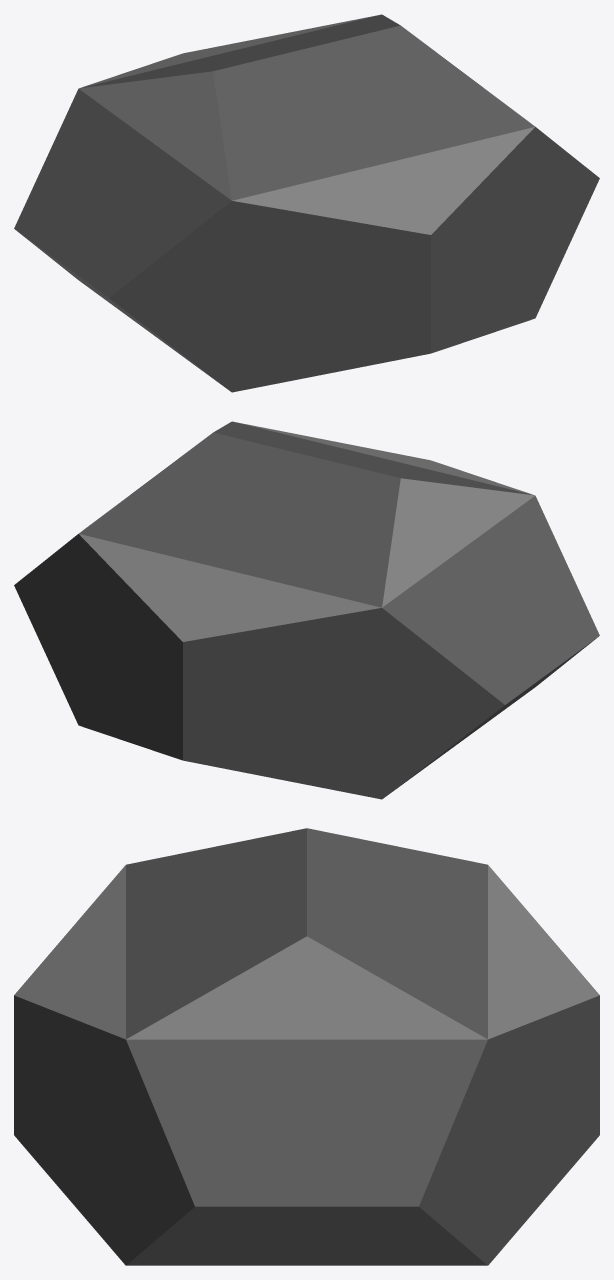
Rendered from rock_11.fbx.
The picture shows the model from 3 angles, top to bottom: view 1: azimuth 30°, elevation 25°; view 2: azimuth 150°, elevation 25°; view 3: azimuth 270°, elevation 25°; orthographic projection. The views are drawn at different scales.
Parts seen in each view (by area): view 1: rock_11; view 2: rock_11; view 3: rock_11.
Boxes of the visible parts, x1=… form: rock_11: x1=14, y1=14, x2=599, y2=392; rock_11: x1=14, y1=421, x2=599, y2=799; rock_11: x1=14, y1=828, x2=599, y2=1265.
Size of the model in its own units: 91.37 by 44.61 by 79.99.
